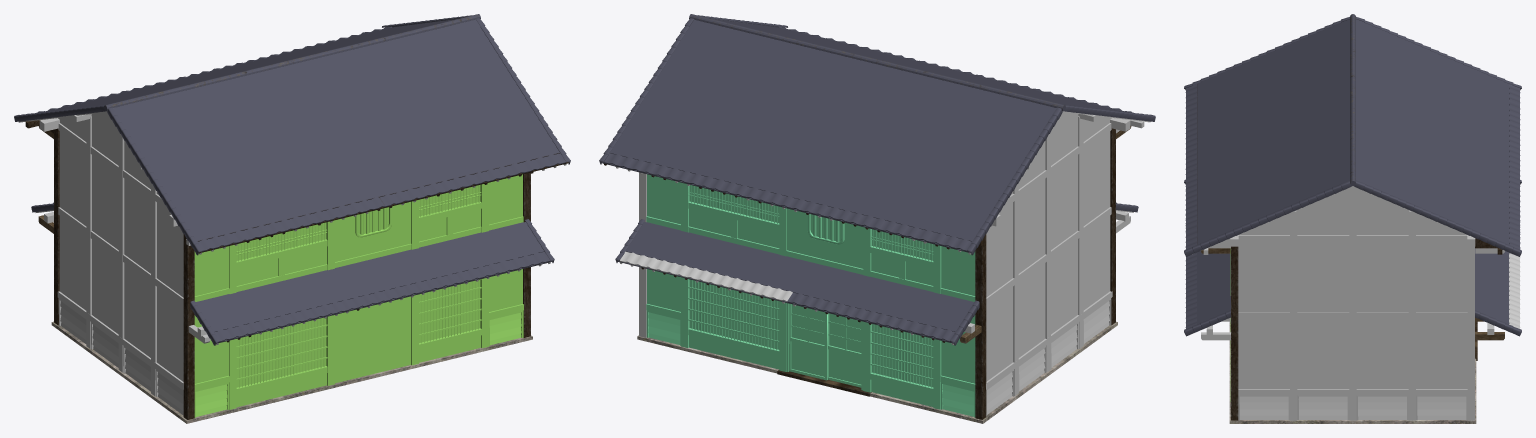
File: m_house4.fbx
3 views of the same model, side by side, from view 1: azimuth 30°, elevation 25°; view 2: azimuth 150°, elevation 25°; view 3: azimuth 270°, elevation 25° (orthographic). The views are drawn at different scales.
Visible parts, largest first — view 1: mesh_house4_LOD0; view 2: mesh_house4_LOD0; view 3: mesh_house4_LOD0.
Boxes of the visible parts, x1,y1,x2,y2 form: mesh_house4_LOD0: (14, 14, 570, 423); mesh_house4_LOD0: (599, 14, 1155, 423); mesh_house4_LOD0: (1184, 14, 1521, 423).
Size of what is drawn, in the model's own units: 13.33 by 9.3 by 11.41.
